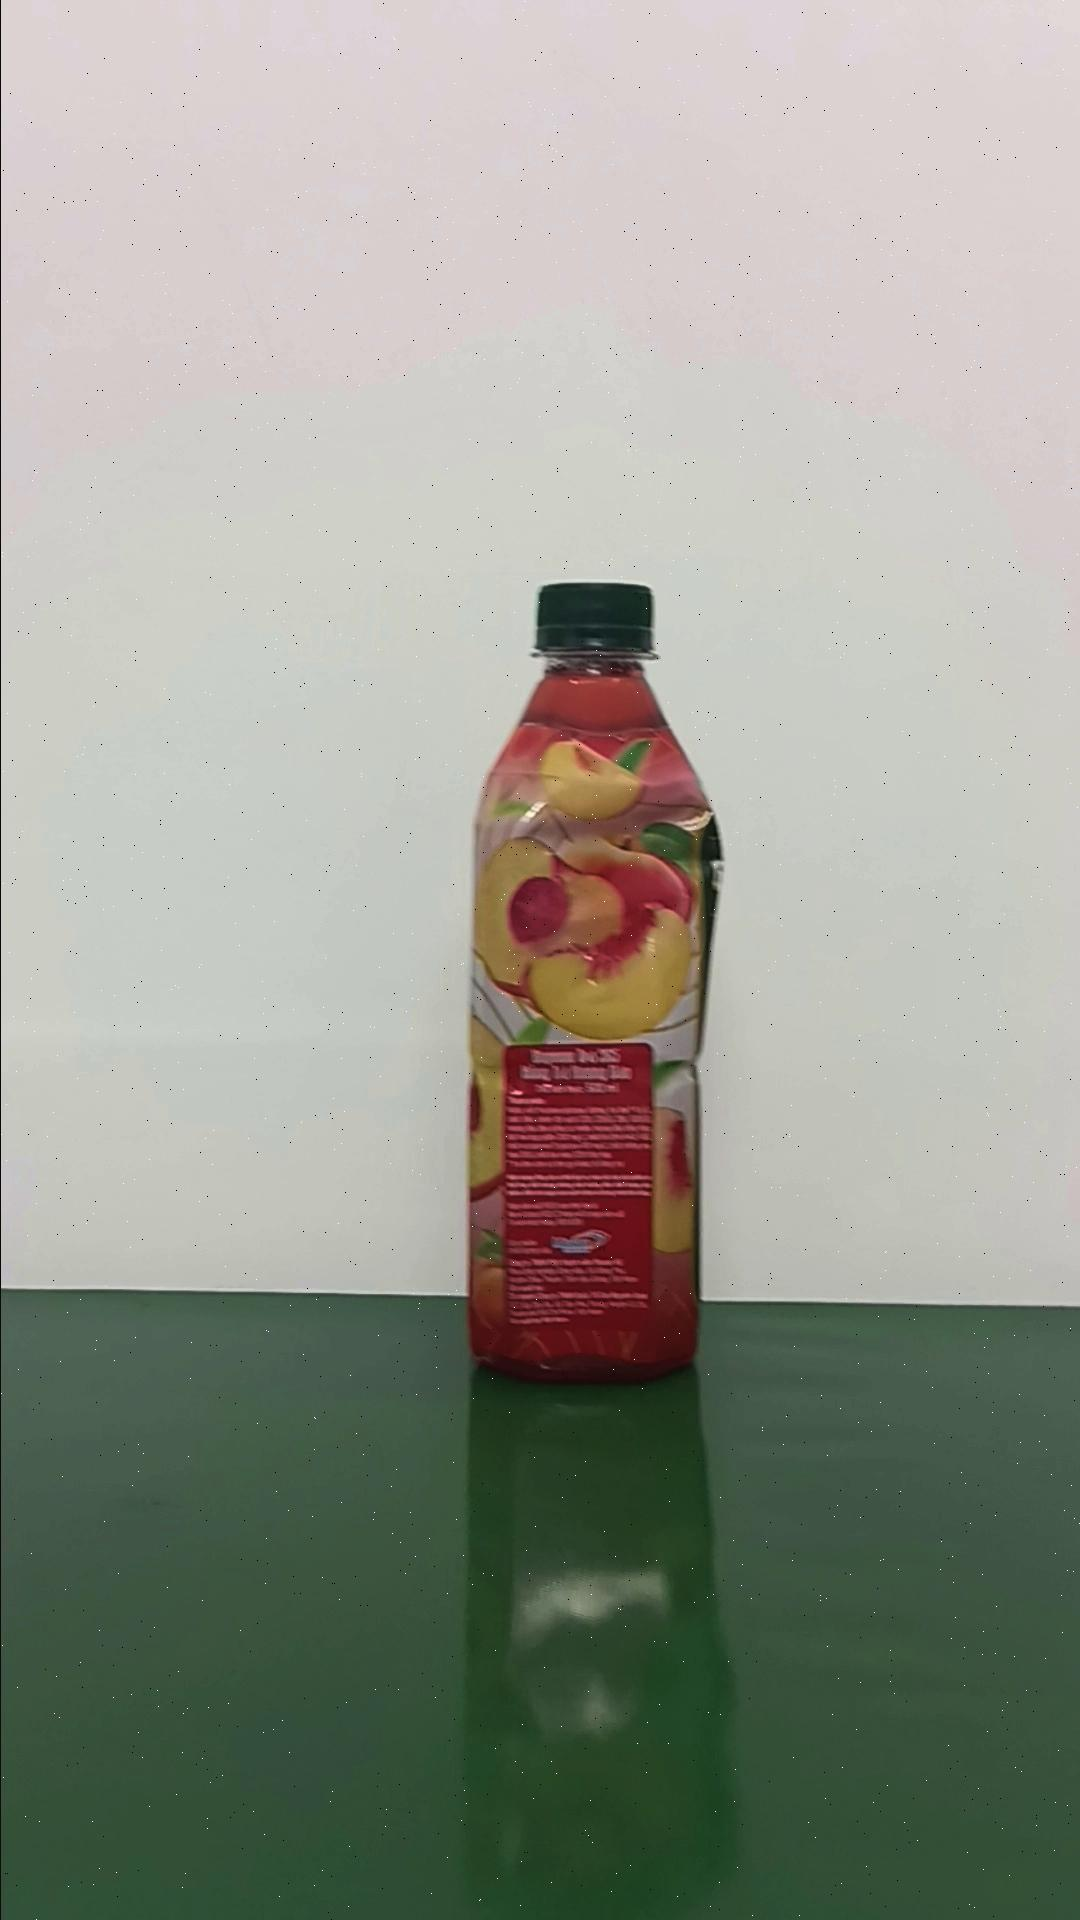loi meo sp: (463, 579, 723, 1383)
